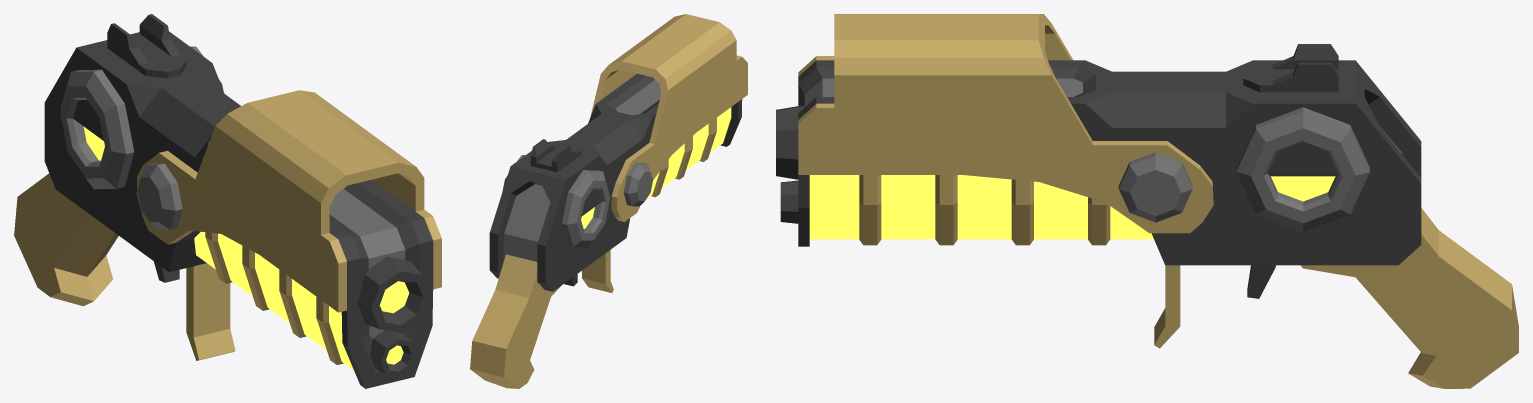
The model's file is Shotgun.glb.
3 views of the same model, side by side, from view 1: azimuth 30°, elevation 25°; view 2: azimuth 150°, elevation 25°; view 3: azimuth 270°, elevation 25° (orthographic). The views are drawn at different scales.
Visible parts, largest first — view 1: ShortShotgun; view 2: ShortShotgun; view 3: ShortShotgun.
Boxes of the visible parts, left/top/right/bottom form: ShortShotgun: left=14, top=14, right=441, bottom=388; ShortShotgun: left=470, top=14, right=747, bottom=388; ShortShotgun: left=776, top=14, right=1518, bottom=388.
Bounding box in the file's own units: 0.7717 × 1.93 × 3.61.
